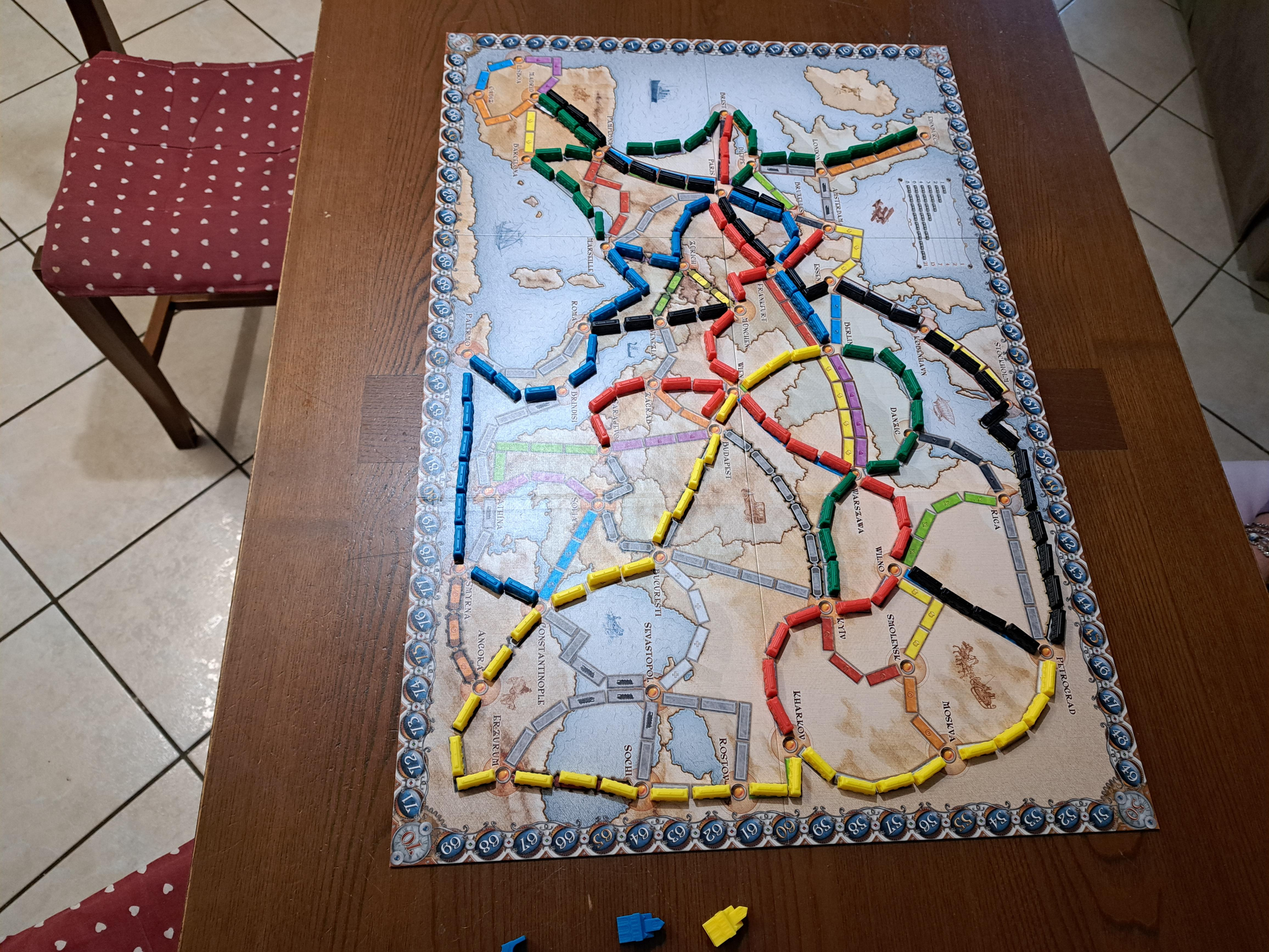corner_bl: (445, 31, 476, 54)
corner_br: (391, 820, 434, 867)
corner_tl: (925, 46, 950, 62)
corner_tr: (1112, 788, 1159, 830)
